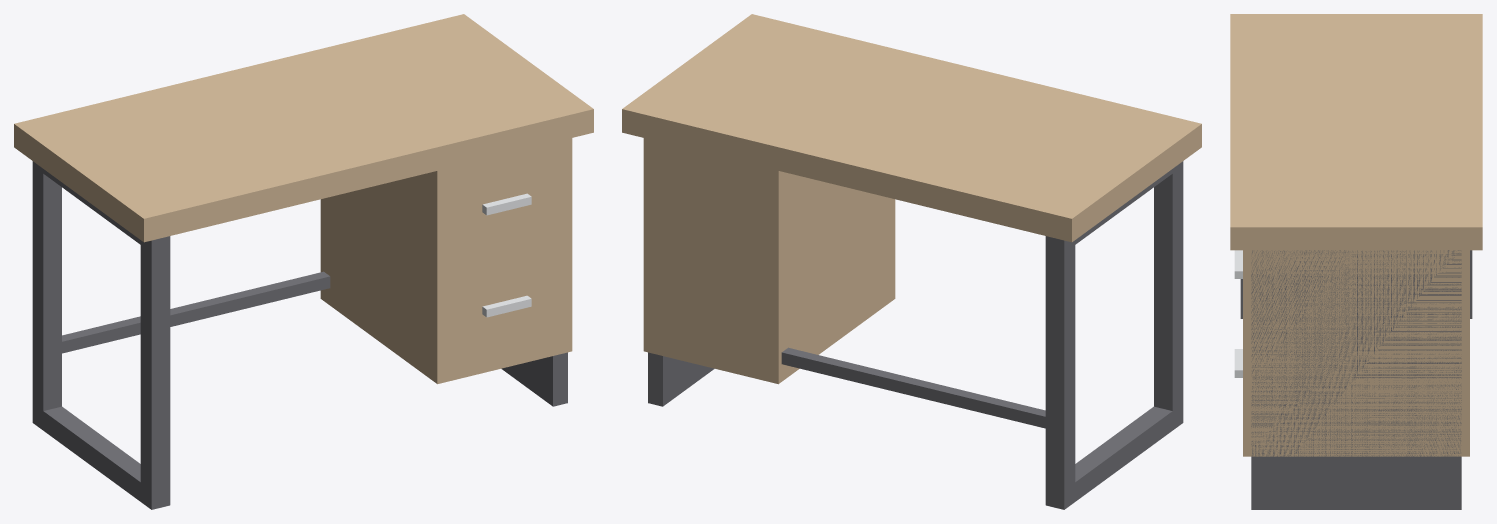
The model's file is DESK001.glb.
3 renders of one model, left to right at view 1: azimuth 30°, elevation 25°; view 2: azimuth 150°, elevation 25°; view 3: azimuth 270°, elevation 25°, orthographic. The views are drawn at different scales.
Visible parts, largest first — view 1: FurnitureRoot; view 2: FurnitureRoot; view 3: FurnitureRoot.
Boxes of the visible parts, x1=… form: FurnitureRoot: x1=14, y1=14, x2=593, y2=509; FurnitureRoot: x1=622, y1=14, x2=1201, y2=509; FurnitureRoot: x1=1230, y1=14, x2=1482, y2=509.
Bounding box in the file's own units: 120 × 76 × 60.
